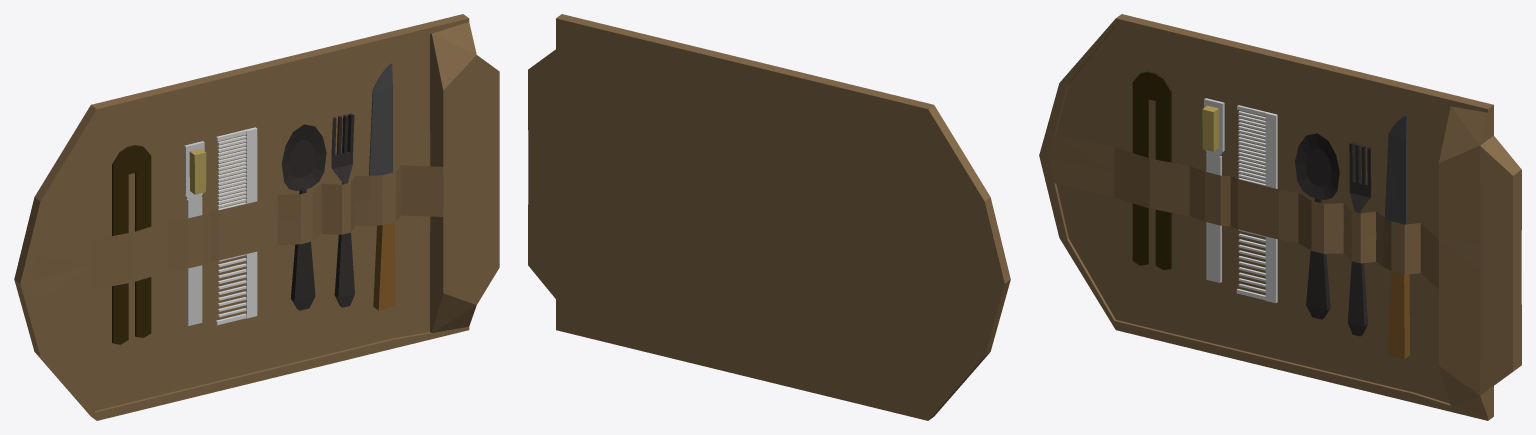
File: holdall.dae
The picture shows the model from 3 angles, left to right: view 1: azimuth 30°, elevation 25°; view 2: azimuth 150°, elevation 25°; view 3: azimuth 330°, elevation 25°; orthographic projection.
Visible parts, largest first — view 1: Bag, Comb, ButtonPolisher, Knife, Spoon, Fork, Toothbrush; view 2: Bag; view 3: Bag, Comb, ButtonPolisher, Knife, Spoon, Fork, Toothbrush.
Part boxes in pixels (x1,y1,x2,y2): Bag: (14, 14, 499, 420); Comb: (216, 127, 257, 325); ButtonPolisher: (112, 145, 151, 344); Knife: (369, 63, 395, 310); Spoon: (281, 124, 326, 310); Fork: (331, 113, 354, 307); Toothbrush: (184, 141, 206, 325); Bag: (528, 14, 1010, 420); Bag: (1039, 14, 1521, 420); Comb: (1236, 105, 1277, 303); ButtonPolisher: (1132, 71, 1171, 269); Knife: (1385, 115, 1409, 358); Spoon: (1295, 133, 1339, 319); Fork: (1347, 142, 1371, 336); Toothbrush: (1202, 98, 1224, 282).
Size of the model in its own units: 2.54 by 0.1632 by 1.59.
